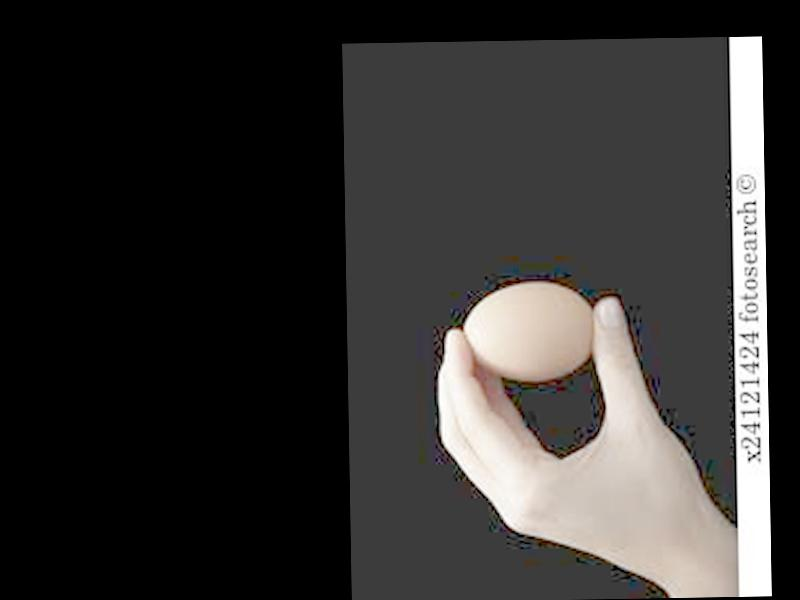Eggs: (459, 282, 595, 381)
